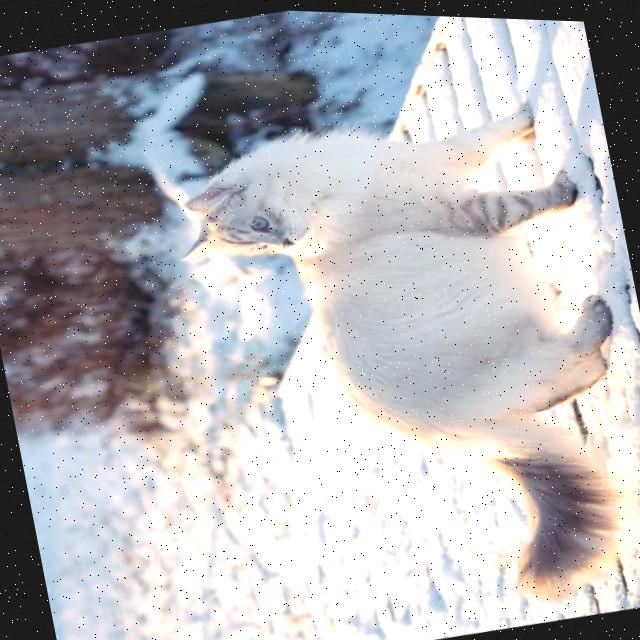Neva Masquerade: (155, 71, 640, 640)
